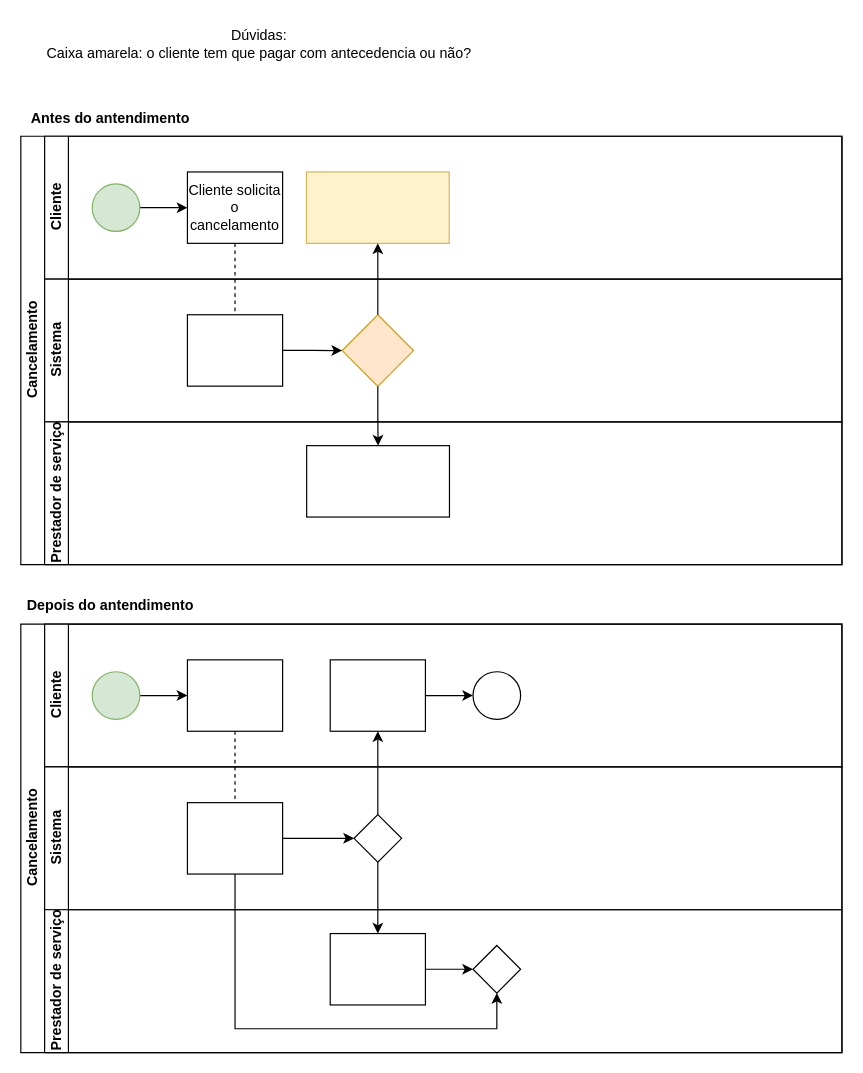
Some shapes in this 863 by 1073 pixel diagram are drawn without their labels. Each missing label, with the centre of its shape:
Notificação ao prestador de serviço: the point at 377,480
Processa o pedido de cancelamento: the point at 234,350
